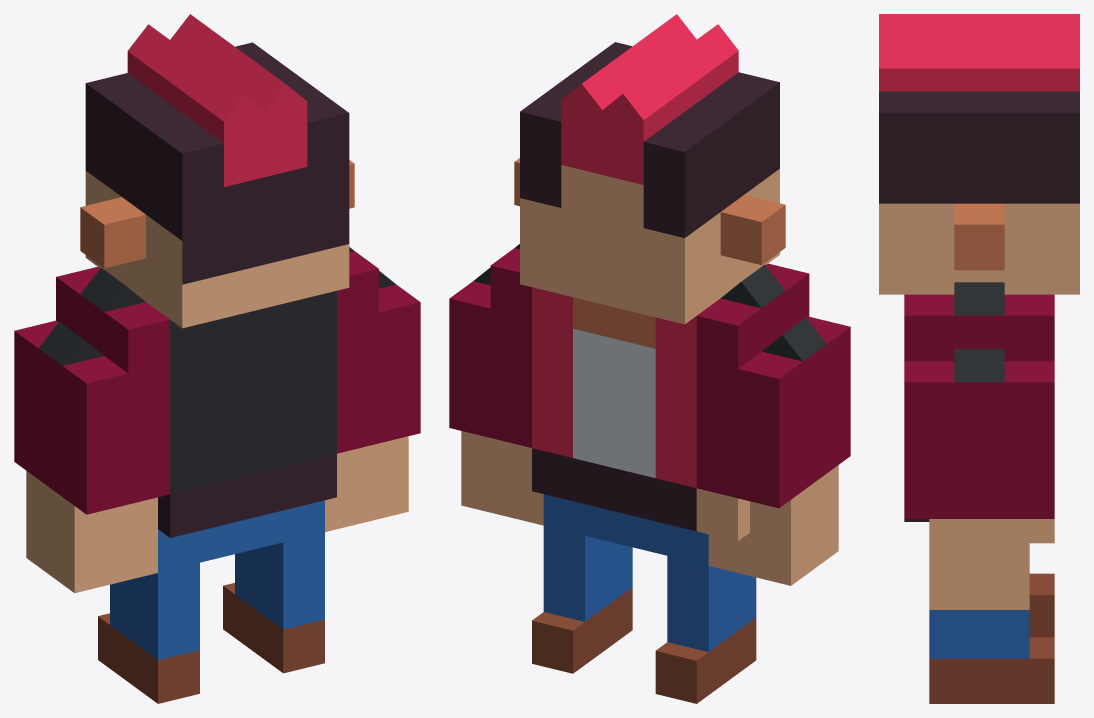
The model's file is LastCharacter.fbx.
The picture shows the model from 3 angles, left to right: view 1: azimuth 30°, elevation 25°; view 2: azimuth 150°, elevation 25°; view 3: azimuth 270°, elevation 25°; orthographic projection. The views are drawn at different scales.
Parts seen in each view (by area): view 1: generated; view 2: generated; view 3: generated.
Boxes of the visible parts, x1,y1,x2,y2 form: generated: [14, 14, 420, 703]; generated: [449, 14, 850, 703]; generated: [879, 14, 1079, 703].
Size of the model in its own units: 80 by 140 by 40.
